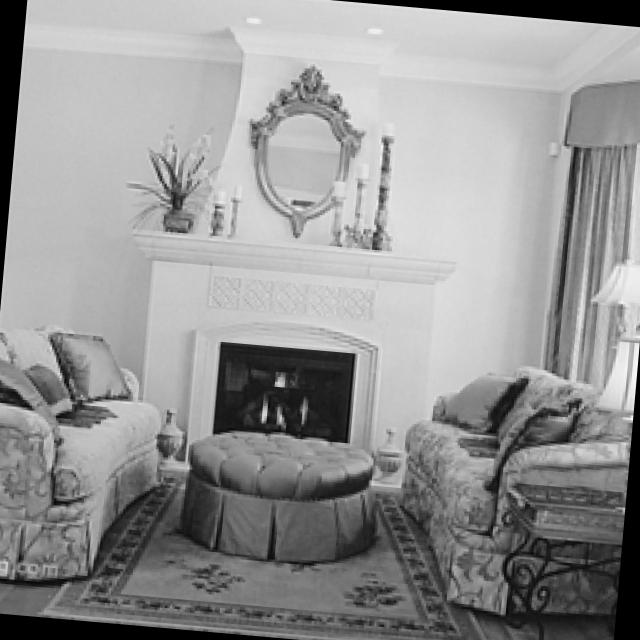2001: (549, 144, 640, 402)
candle holder: (367, 117, 395, 245), (342, 160, 367, 243), (327, 178, 342, 244), (206, 190, 221, 231), (225, 182, 236, 235)
ceiling beam: (23, 0, 640, 90)
ceiling lamps: (242, 10, 259, 26), (363, 23, 381, 34)
curtain crop: (540, 79, 640, 380)
fireplace mantle: (210, 338, 350, 437)
lamp crop: (588, 258, 639, 328)
mirror crop: (246, 61, 359, 232)
ottoman: (173, 426, 372, 557)
pillow occluded: (483, 395, 576, 483), (433, 369, 523, 429), (48, 329, 128, 396), (0, 358, 59, 442), (17, 358, 72, 409)
plant -x: (121, 119, 224, 231)
rug -partially obscured-: (36, 472, 483, 640)
small table part: (497, 477, 621, 640)
sofa bed: (398, 363, 628, 612), (0, 325, 157, 580)
table -X: (503, 482, 619, 544)
vase -X: (366, 421, 401, 480), (155, 404, 180, 458)
